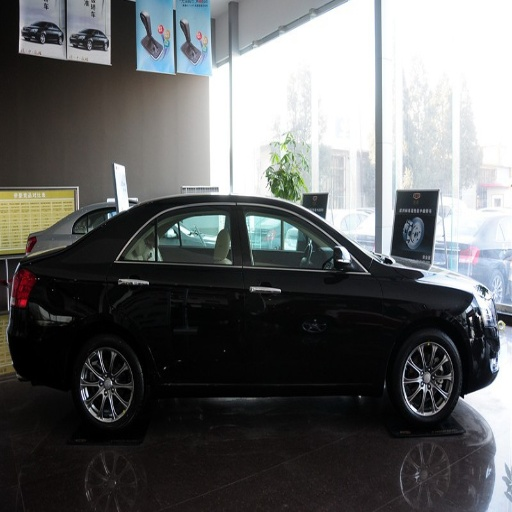back_right_door: (116, 200, 254, 379)
